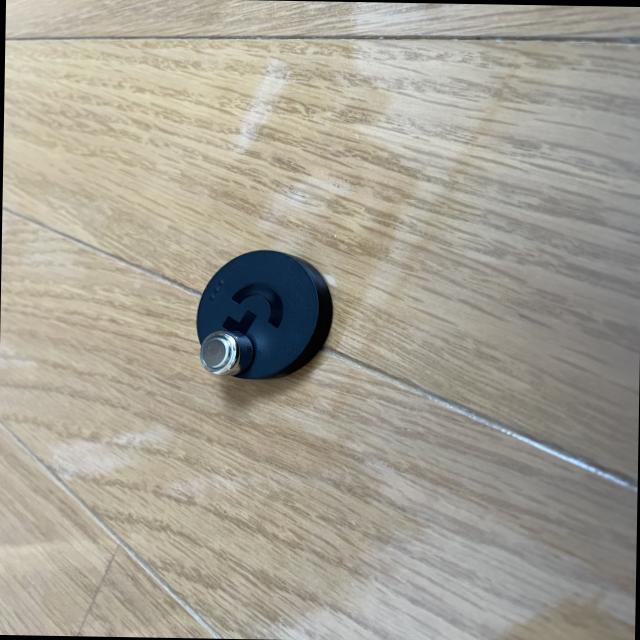COIN: (198, 328, 258, 375)
